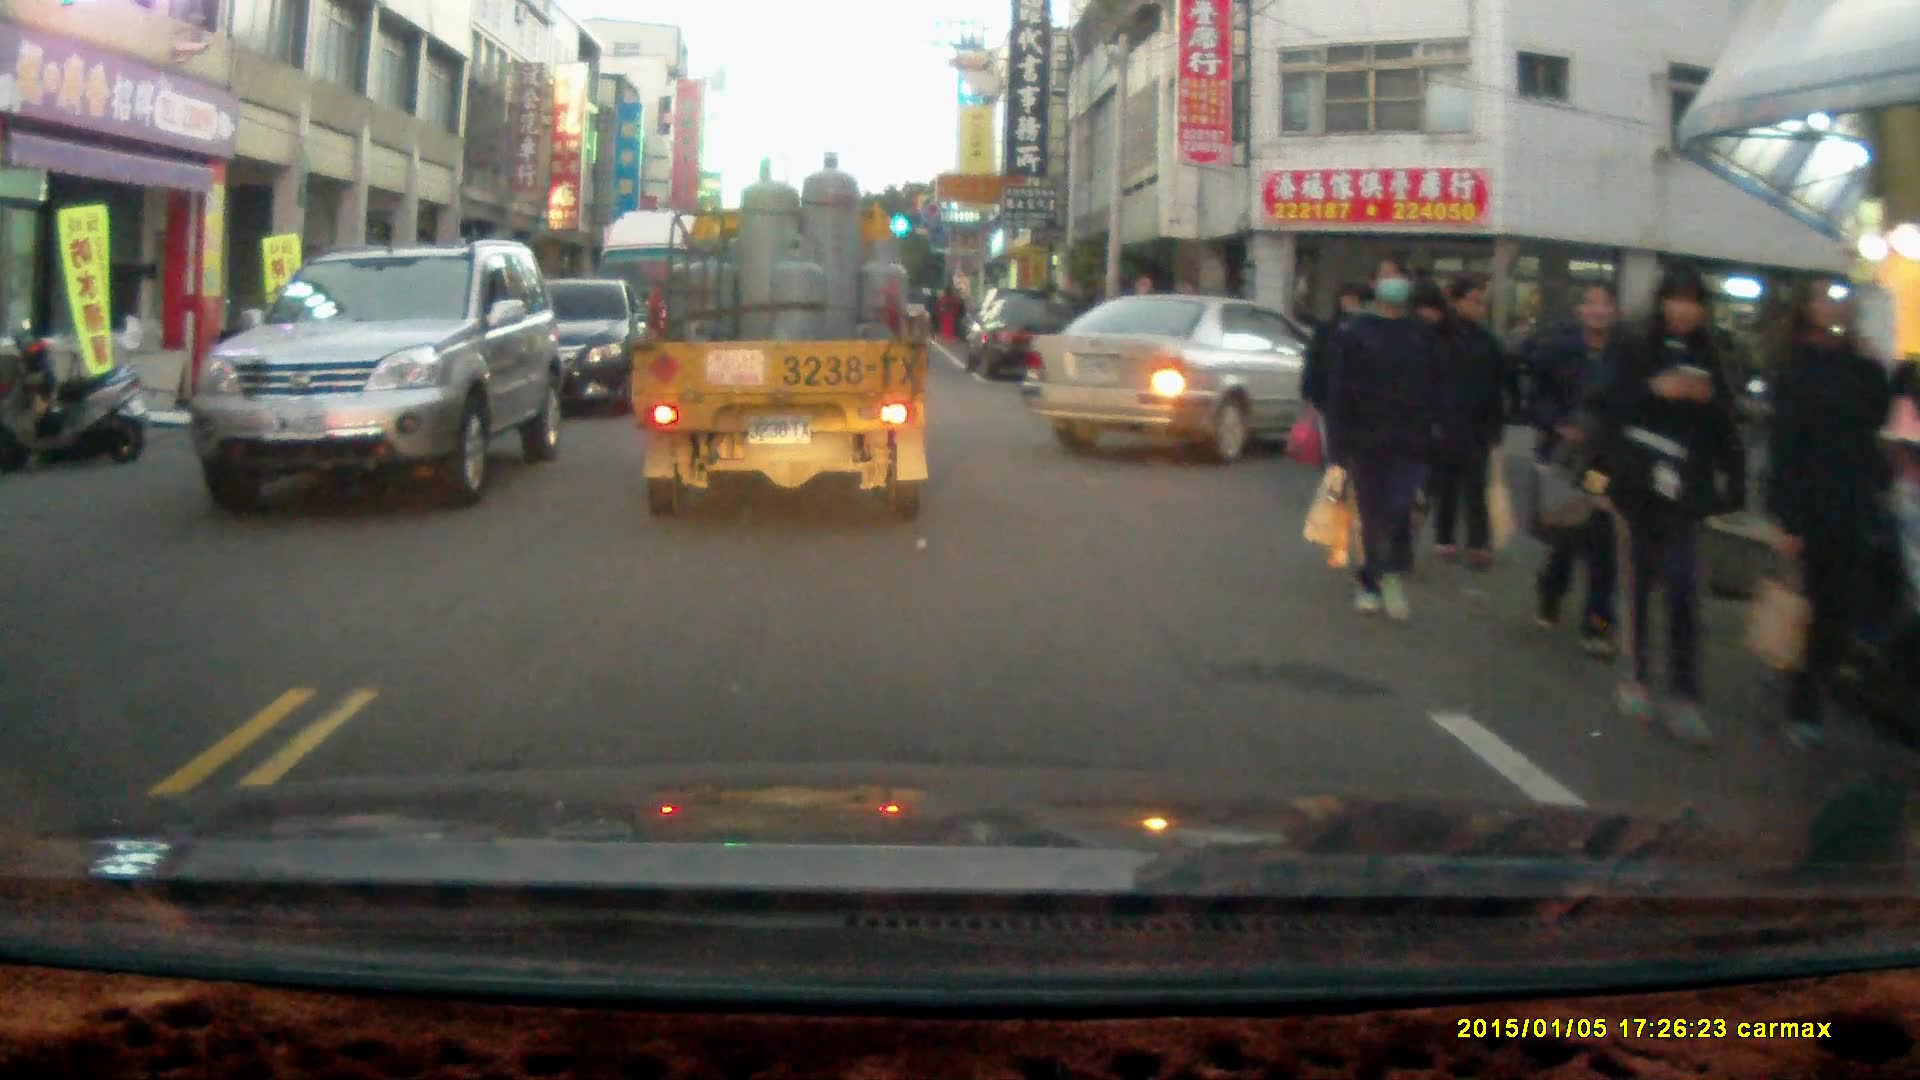pedestrian: (1598, 261, 1739, 747), (1762, 271, 1896, 745), (1326, 249, 1452, 627), (1528, 272, 1645, 655), (1418, 269, 1512, 574), (1300, 282, 1385, 533)
vehicle: (628, 151, 942, 519), (190, 238, 565, 506), (1019, 295, 1385, 463), (448, 279, 659, 423), (596, 208, 747, 393), (975, 290, 1090, 386)
